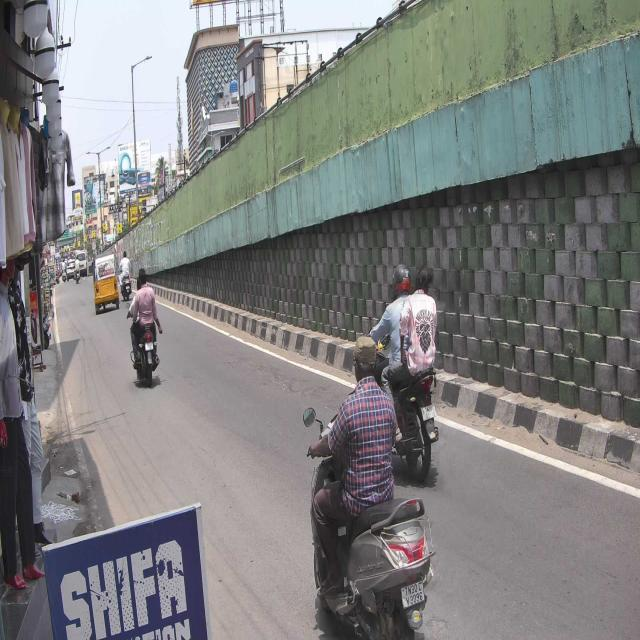single_rider: (306, 332, 434, 640)
